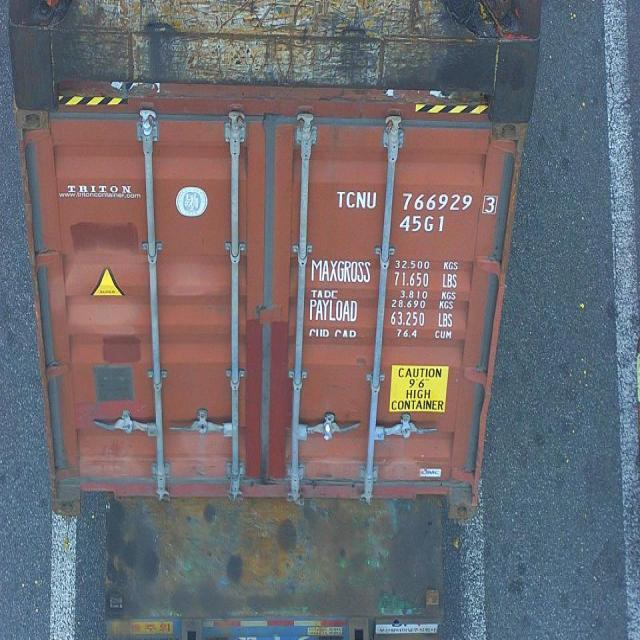ISO: (398, 214, 447, 234)
container_number: (336, 190, 502, 212)
